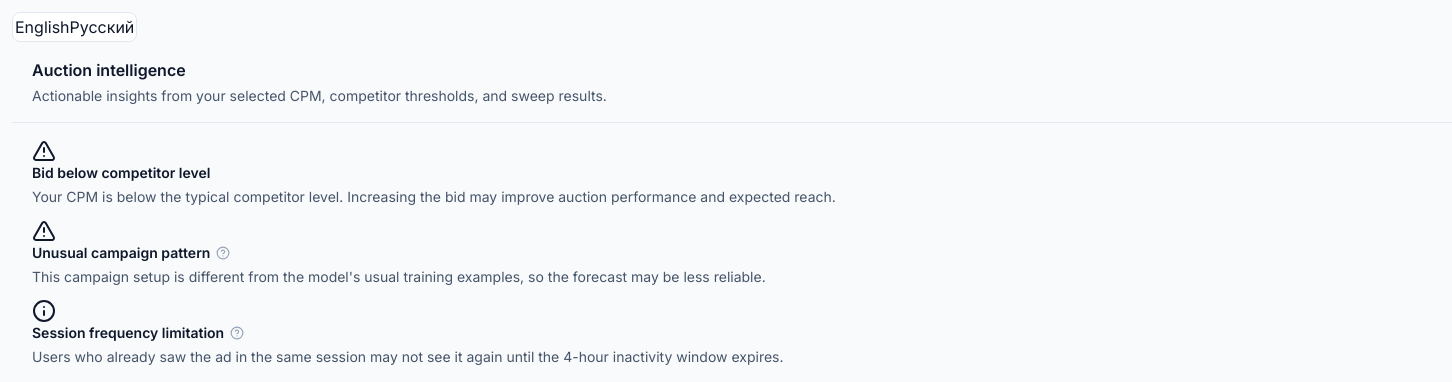
Test: Result page marketer polish (Phase 5.11) › language switcher still works
Click the button "Русский" at (102, 27), box x1=70 y1=15 x2=134 y2=39
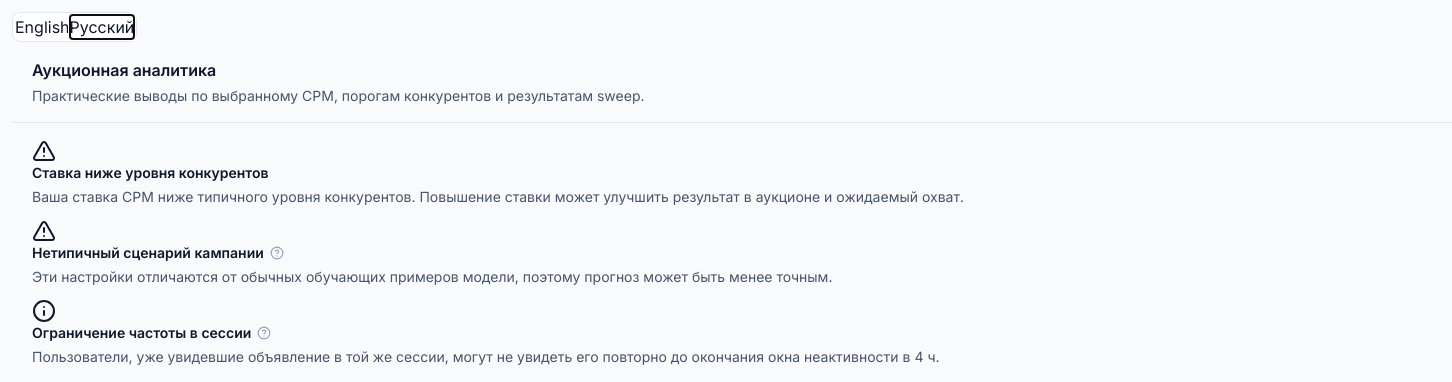
Now the text "Нетипичный сценарий кампании" is shown, box x1=32 y1=244 x2=284 y2=261
